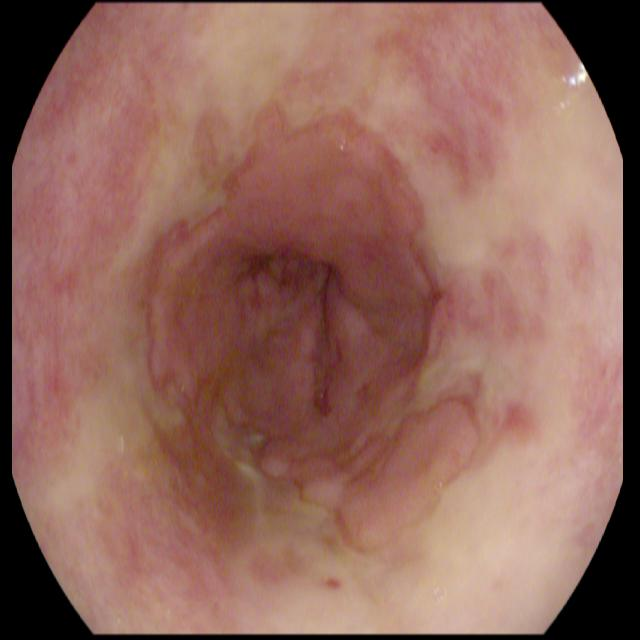esophagitis: (24, 1, 631, 640)
